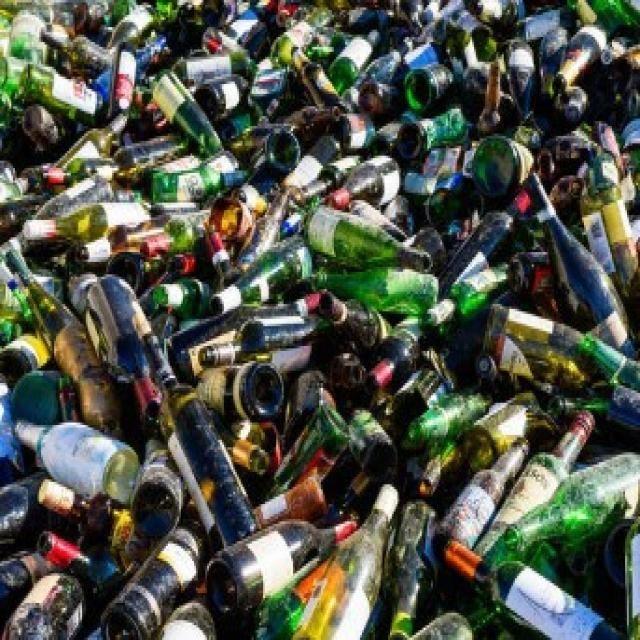electronic: (146, 330, 259, 553), (202, 506, 356, 610), (500, 445, 640, 558), (298, 198, 435, 272)
